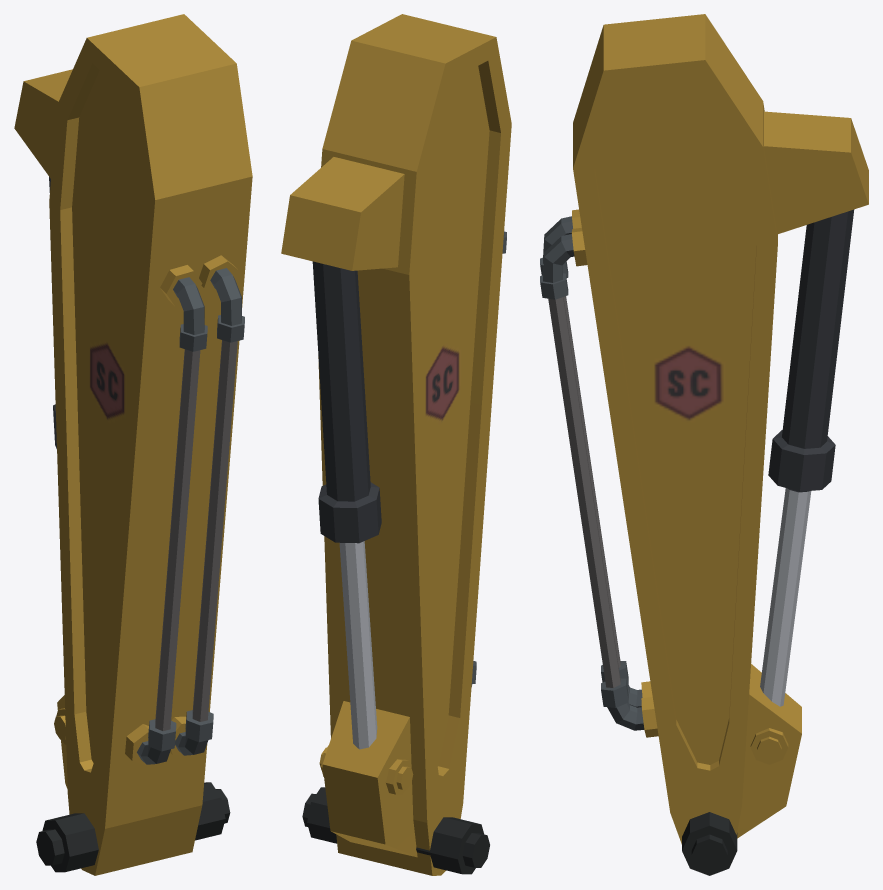
File: SM_Veh_Excavator_01_Arm_02.obj
3 renders of one model, left to right at view 1: azimuth 30°, elevation 25°; view 2: azimuth 150°, elevation 25°; view 3: azimuth 270°, elevation 25°, orthographic. The views are drawn at different scales.
Parts seen in each view (by area): view 1: SM_Veh_Excavator_01_Arm_02_0; view 2: SM_Veh_Excavator_01_Arm_02_0; view 3: SM_Veh_Excavator_01_Arm_02_0.
Part boxes in pixels (bbox=[...]): SM_Veh_Excavator_01_Arm_02_0: bbox=[14, 14, 252, 875]; SM_Veh_Excavator_01_Arm_02_0: bbox=[281, 14, 511, 875]; SM_Veh_Excavator_01_Arm_02_0: bbox=[540, 14, 868, 875].
Size of the model in its own units: 0.8287 by 3.77 by 1.39.
1 material, 1 textured.
